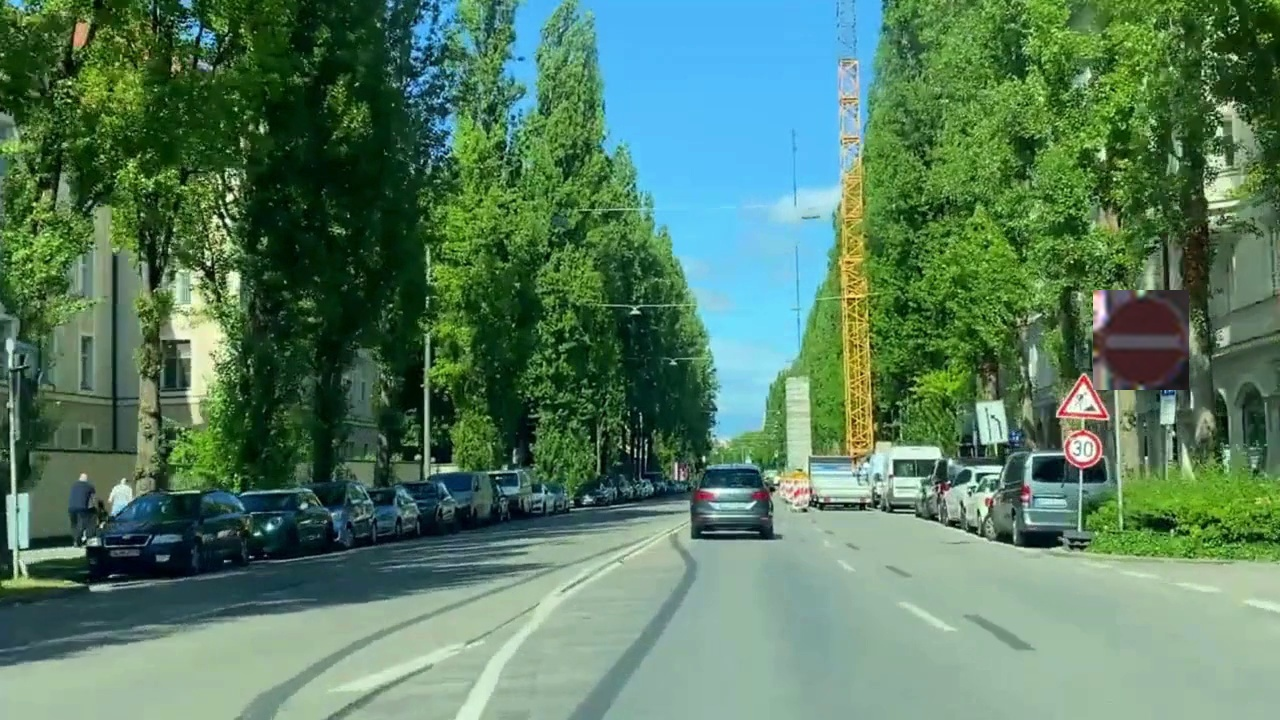No entry: (1093, 290, 1189, 390)
